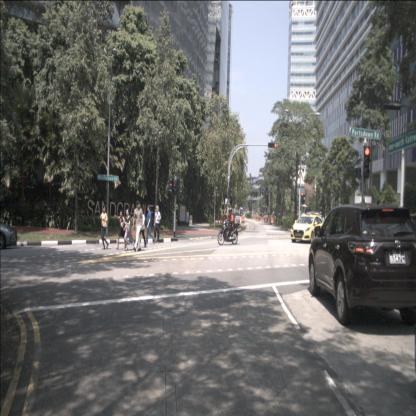human-pedestrian-adult: (114, 209, 128, 250), (132, 200, 143, 252), (123, 209, 135, 251), (144, 206, 156, 246), (136, 209, 147, 249), (100, 205, 109, 251), (153, 205, 161, 244)
vehicle-car: (309, 204, 416, 326), (290, 214, 325, 244), (0, 223, 17, 250)
vehicle-motorcycle: (218, 207, 240, 245)
